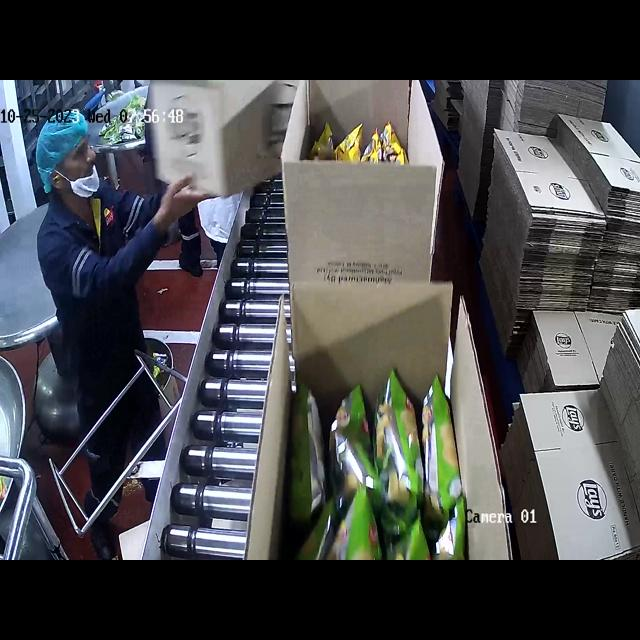salted: (308, 127, 405, 159)
yogurt: (301, 365, 449, 560)
